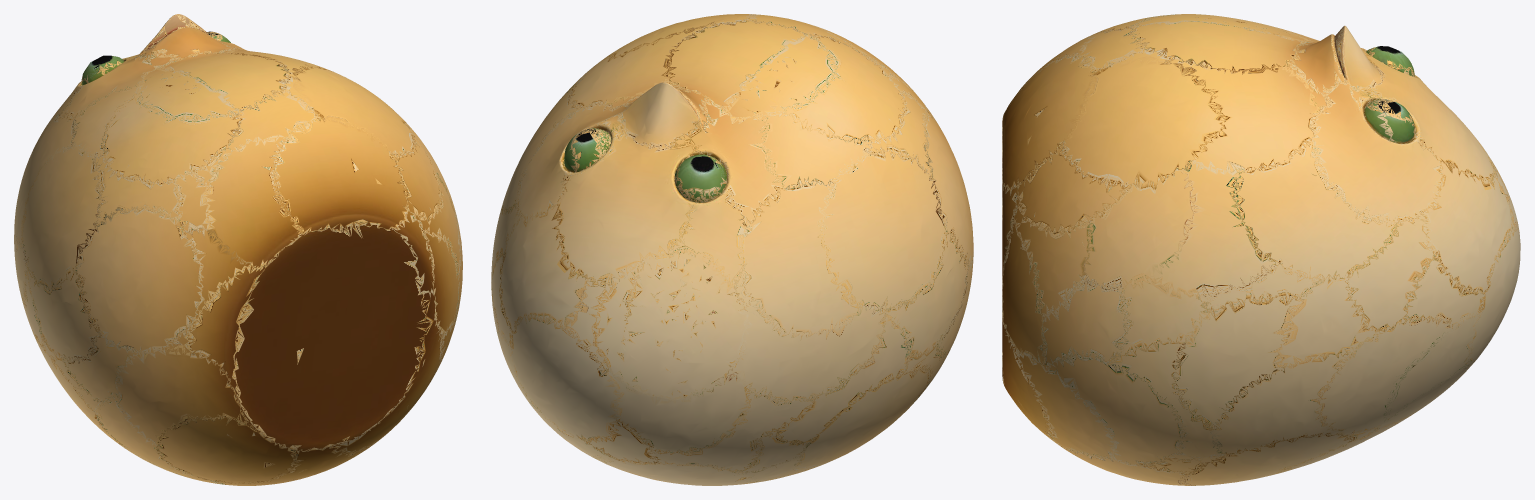
Rendered from naidan.glb.
3 views of the same model, side by side, from view 1: azimuth 30°, elevation 25°; view 2: azimuth 150°, elevation 25°; view 3: azimuth 270°, elevation 25° (orthographic). The views are drawn at different scales.
Size of the model in its own units: 0.9719 by 0.9851 by 1.06.
Materials: 1 (1 with a texture image).
